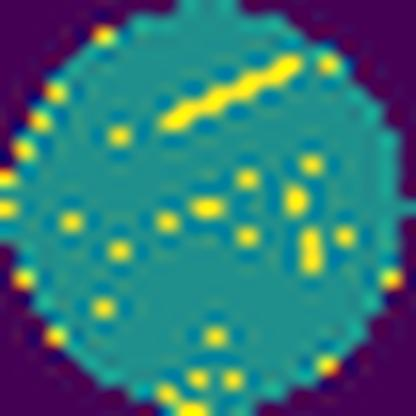Scratch: (160, 51, 304, 134)
